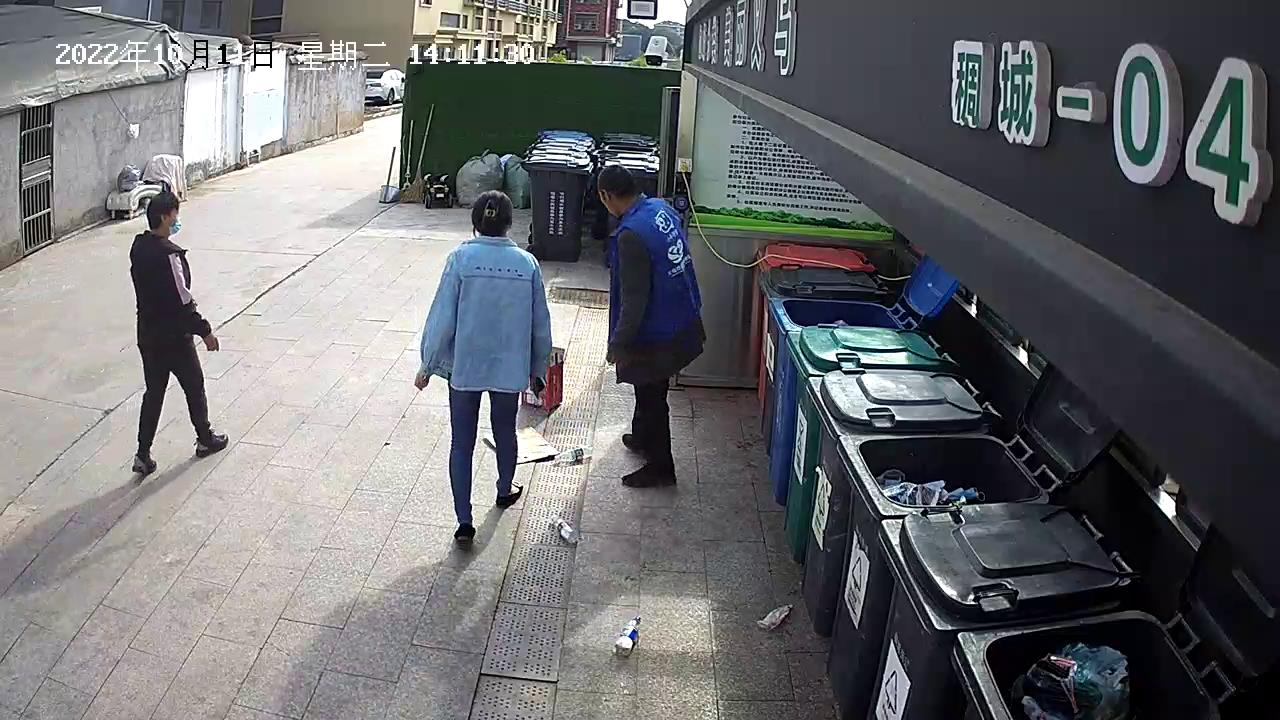person: (127, 189, 230, 475)
suliaozhipin: (613, 614, 642, 659), (754, 600, 796, 631), (550, 510, 581, 546), (553, 443, 598, 464)
worker: (410, 187, 554, 551), (596, 158, 709, 492)
zhizhipin: (519, 343, 567, 413), (482, 425, 558, 467)
